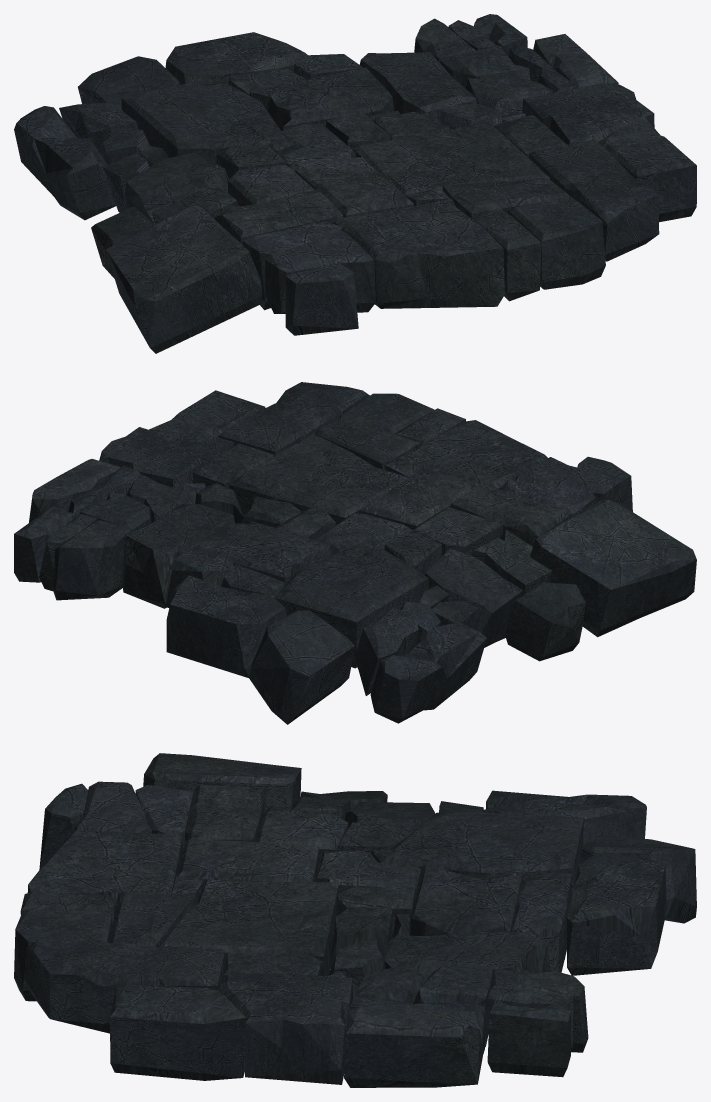
The model's file is Roca3.obj.
3 views of the same model, one above another, from view 1: azimuth 30°, elevation 25°; view 2: azimuth 150°, elevation 25°; view 3: azimuth 270°, elevation 25° (orthographic). The views are drawn at different scales.
Visible parts, largest first — view 1: XelNaga_Cavern_Stone_Bricks_Crumbled_03; view 2: XelNaga_Cavern_Stone_Bricks_Crumbled_03; view 3: XelNaga_Cavern_Stone_Bricks_Crumbled_03.
Part boxes in pixels (box(x1,y1,x2,y2)): XelNaga_Cavern_Stone_Bricks_Crumbled_03: box(14, 14, 696, 353); XelNaga_Cavern_Stone_Bricks_Crumbled_03: box(14, 382, 696, 724); XelNaga_Cavern_Stone_Bricks_Crumbled_03: box(14, 753, 696, 1087).
Size of the model in its own units: 5.31 by 0.9522 by 4.93.
1 material, 1 textured.
